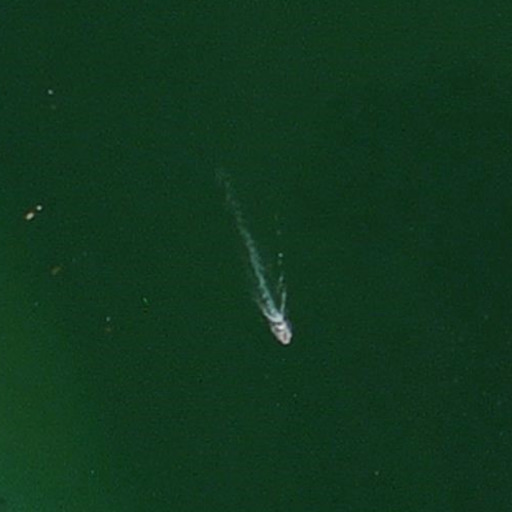ship: (266, 315, 295, 350)
